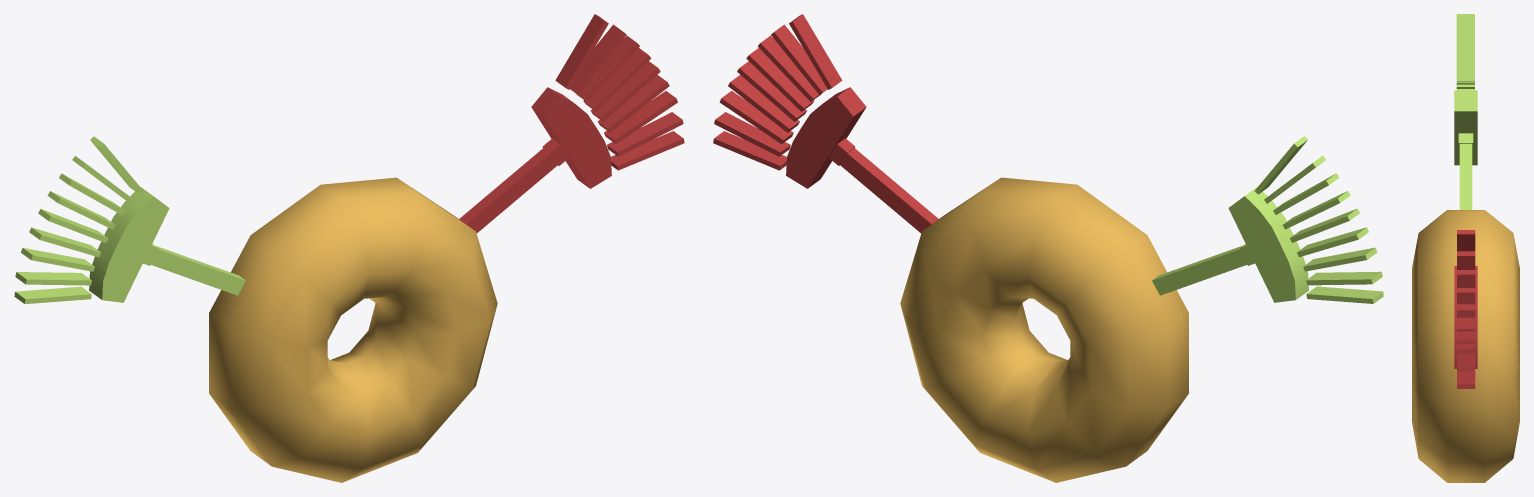
The model's file is BodyDonut.fbx.
The picture shows the model from 3 angles, left to right: view 1: azimuth 30°, elevation 25°; view 2: azimuth 150°, elevation 25°; view 3: azimuth 270°, elevation 25°; orthographic projection. The views are drawn at different scales.
Visible parts, largest first — view 1: BodyDonut; view 2: BodyDonut; view 3: BodyDonut.
Part boxes in pixels (x1,y1,x2,y2): BodyDonut: (14,14,684,482); BodyDonut: (713,14,1383,482); BodyDonut: (1412,14,1519,482).
Bounding box in the file's own units: 6.14 × 3.48 × 0.9848.
